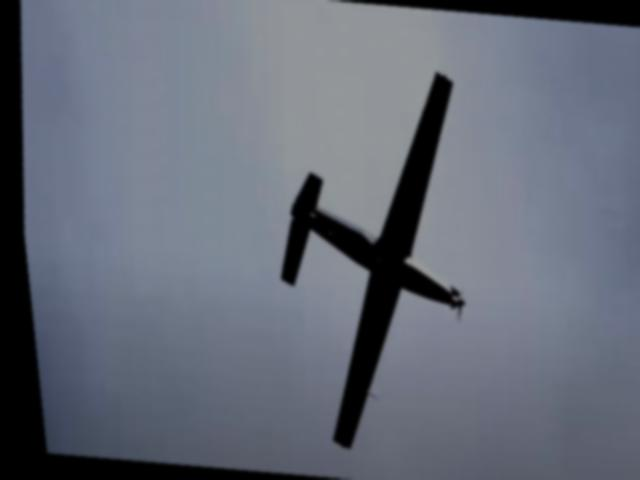iha: (239, 53, 493, 460)
